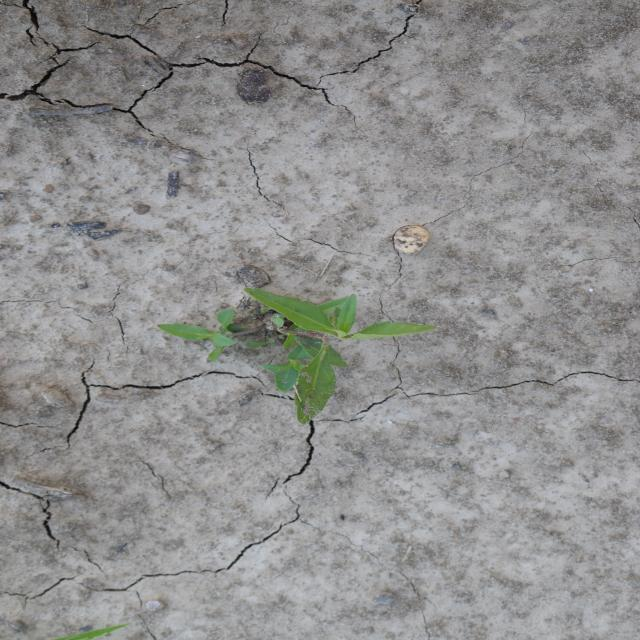Eclipta: (154, 286, 441, 426)
